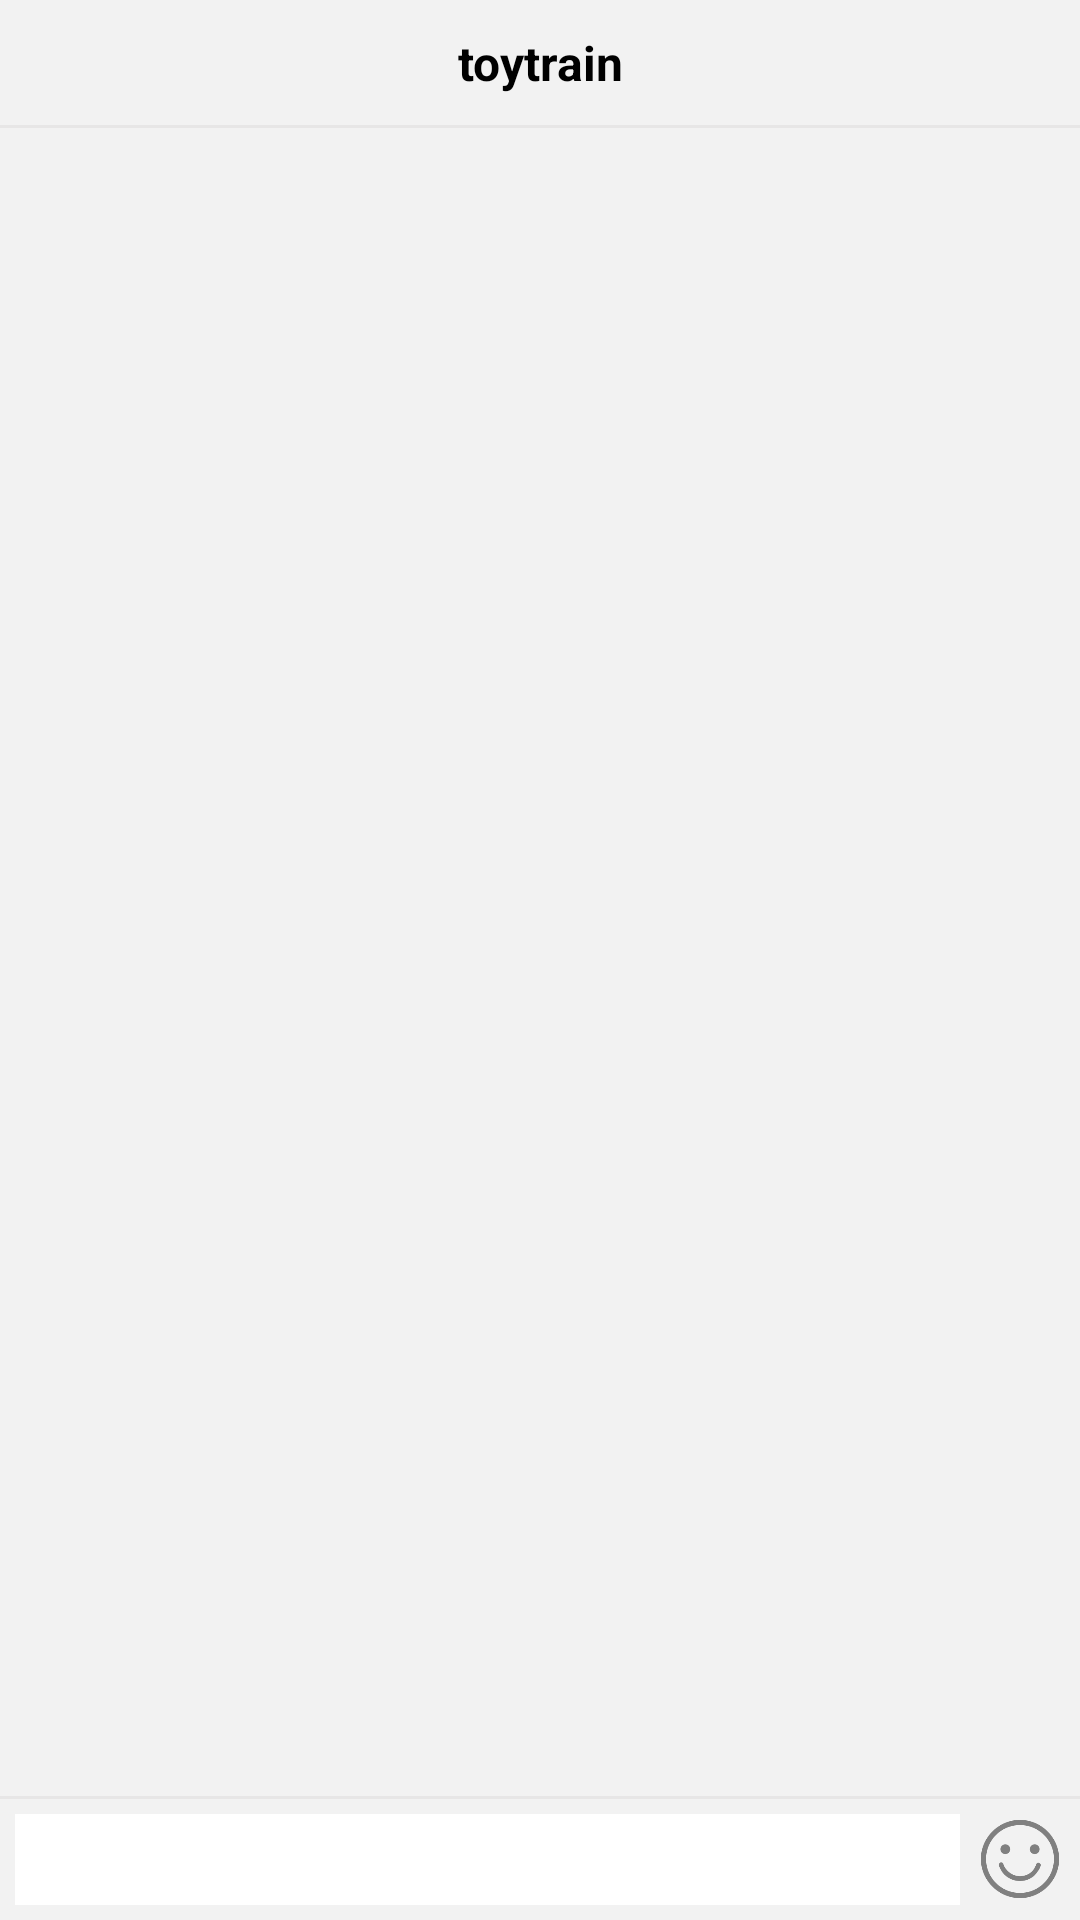

Icon click points for this 1080 × 1920 phone screenshot, format [x,y]:
biaoqing: [1020,1859]
